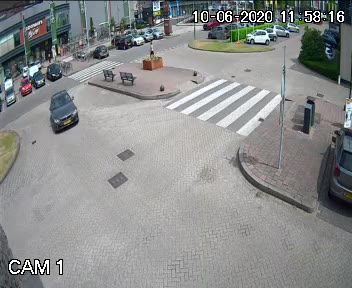car: (42, 88, 89, 137)
